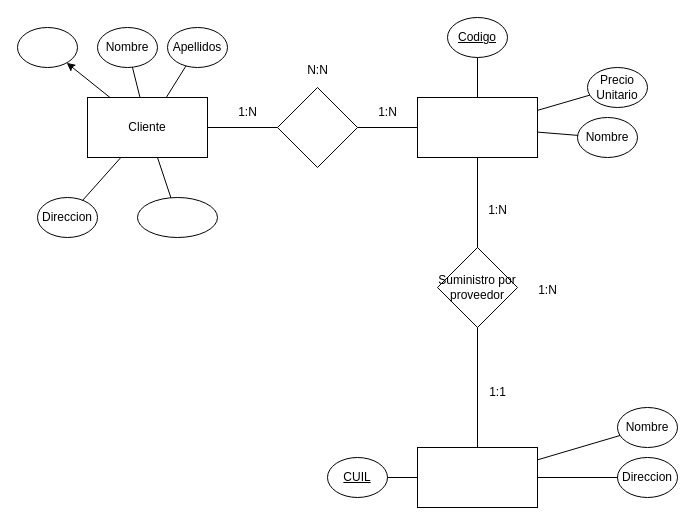
The diagram is 695 pixels wide and 525 high, and some of its shapes have lost their labels. The centre of each missing label's shape, as x and y in pixels:
Compra: point 317,127
DNI: point 47,47
Fecha de Nacimiento: point 177,217
Productos: point 477,127
Proveedores: point 477,477
